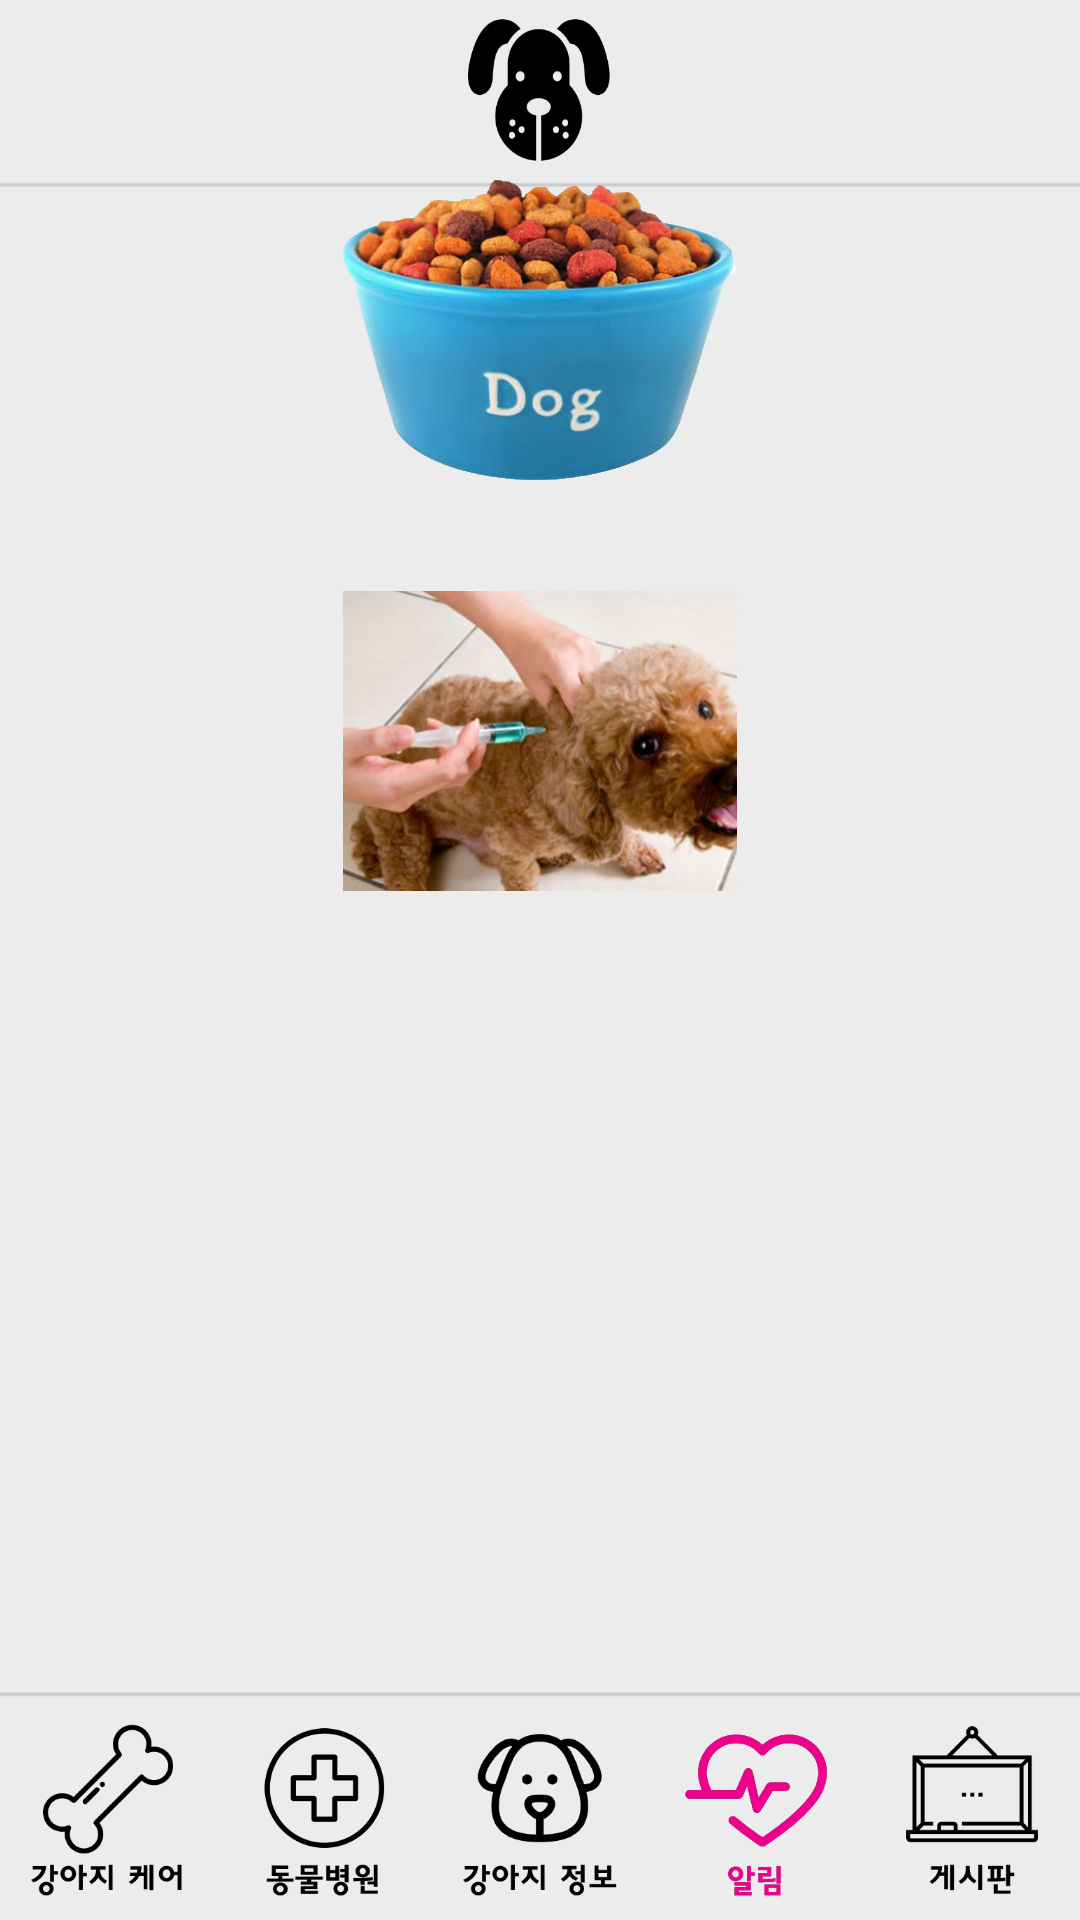

Where icons sit on this 1080px×1920px app screen, as (x1, y1, x2, y2):
dogdogface: (468, 19, 610, 161)
